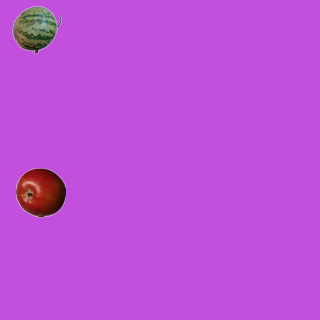Apple Braeburn: (15, 167, 65, 217)
Watermelon: (11, 4, 61, 54)
